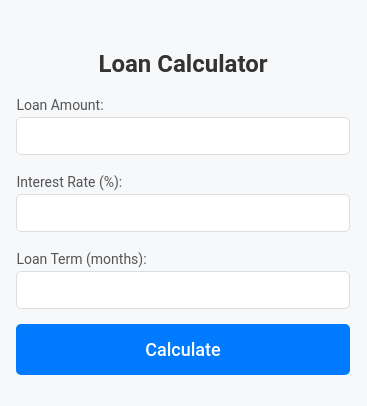
Test: LoanCalculator Component › calculates loan correctly
Type "1000" into the number field labelled "Loan Amount:" at (183, 136), box [16,117,350,155]
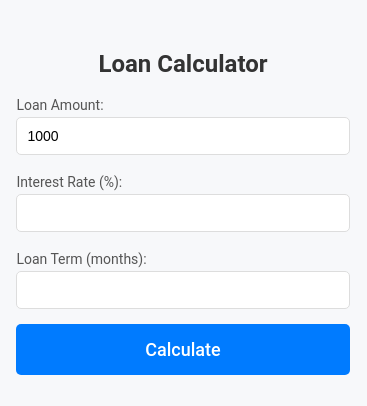
Type "5" into the number field labelled "Interest Rate (%):" at (183, 213), box [16,194,350,232]
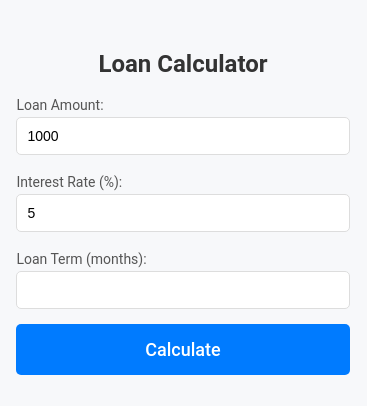
Type "12" into the number field labelled "Loan Term (months):" at (183, 290), box [16,271,350,309]
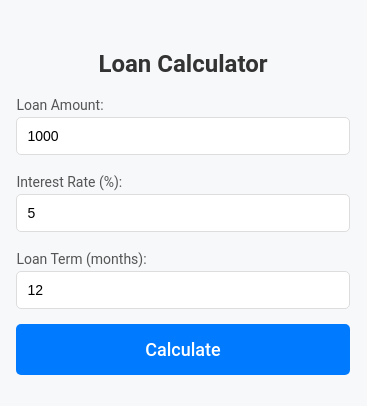
Click the button "Calculate" at (183, 350), box [16,324,350,375]
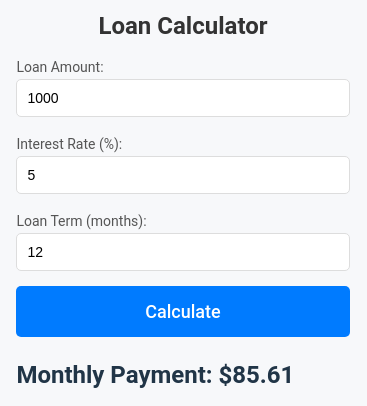
Expected: the heading "Monthly Payment: $85.61" is shown, [16,361,294,389]
